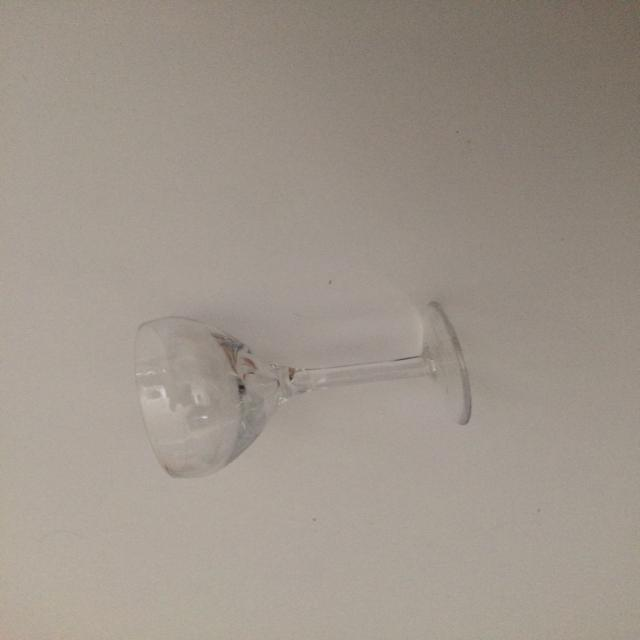glass: (130, 296, 472, 484)
